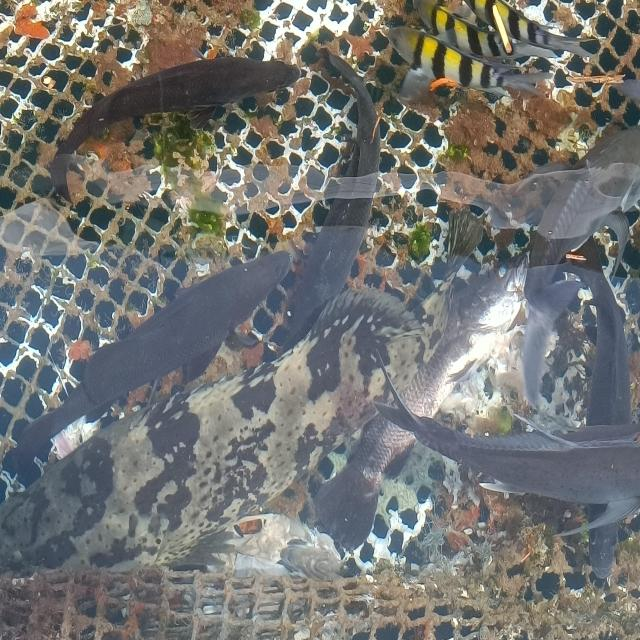ikan: (6, 252, 303, 470), (385, 332, 640, 568), (45, 53, 300, 211), (396, 25, 546, 105), (444, 0, 606, 62)
